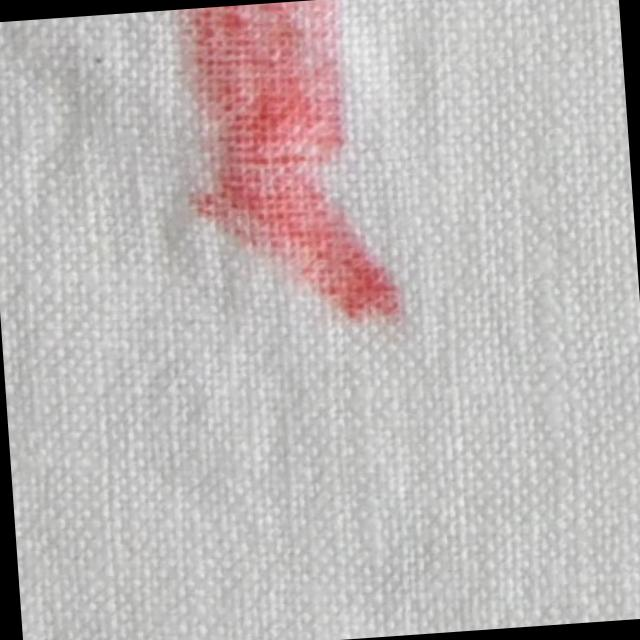Stain: (171, 0, 408, 334)
